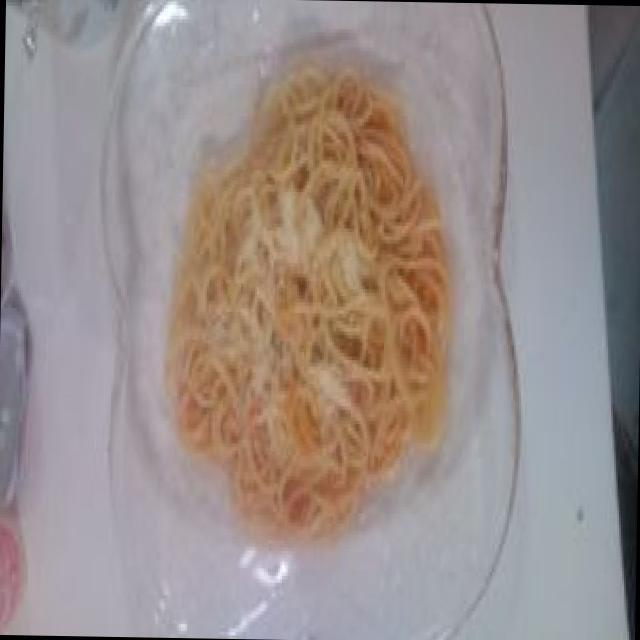Pasta: (180, 65, 446, 506)
